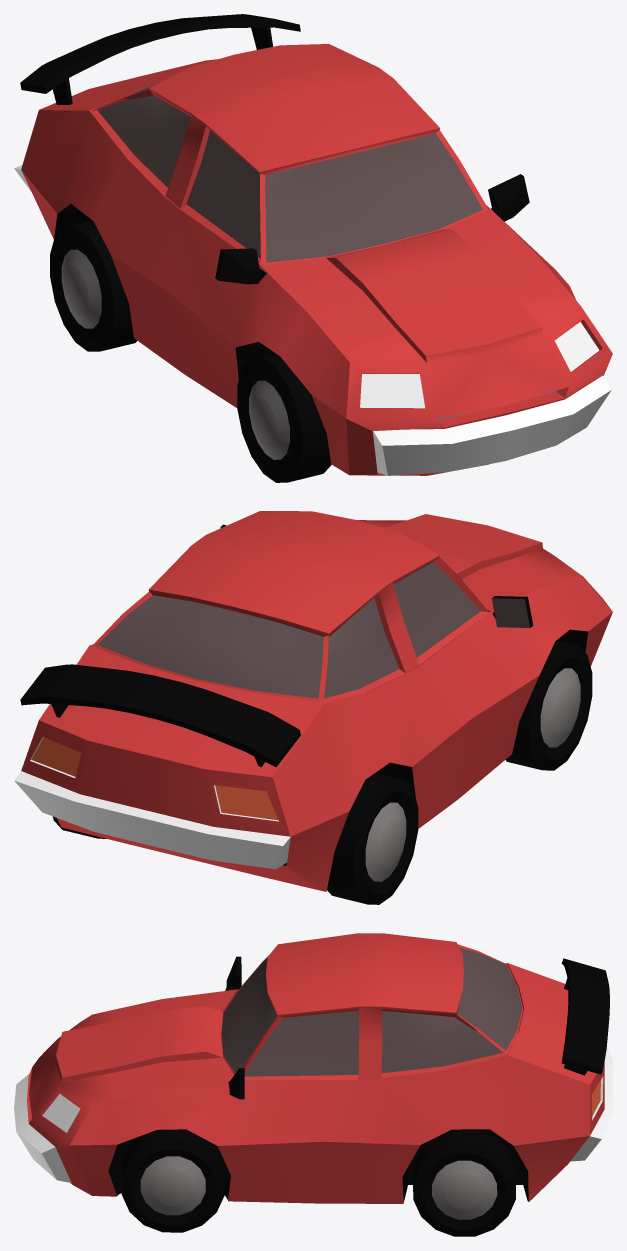
The model's file is CAR 1 .fbx.
3 views of the same model, one above another, from view 1: azimuth 30°, elevation 25°; view 2: azimuth 150°, elevation 25°; view 3: azimuth 270°, elevation 25° (orthographic). The views are drawn at different scales.
Visible parts, largest first — view 1: body.004, tyre.003, tyre.033; view 2: body.004, tyre.033, tyre.003; view 3: body.004, tyre.034, tyre.032.
Boxes of the visible parts, left/top/right/bottom form: body.004: left=14, top=14, right=612, bottom=475; tyre.003: left=237, top=352, right=331, bottom=482; tyre.033: left=50, top=220, right=137, bottom=351; body.004: left=14, top=511, right=612, bottom=891; tyre.033: left=327, top=773, right=418, bottom=904; tyre.003: left=505, top=640, right=592, bottom=770; body.004: left=14, top=933, right=612, bottom=1203; tyre.034: left=413, top=1129, right=515, bottom=1236; tyre.032: left=121, top=1129, right=224, bottom=1232.
Bounding box in the file's own units: 2.24 × 1.81 × 4.55.
